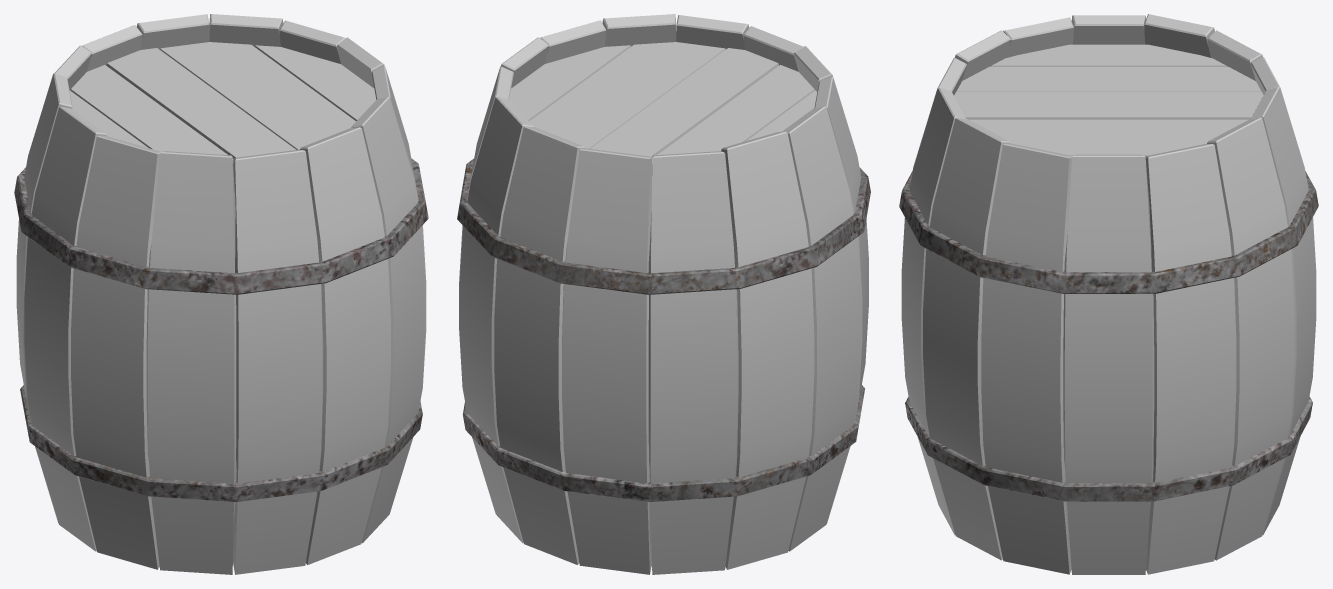
File: Barrel.fbx
3 views of the same model, side by side, from view 1: azimuth 30°, elevation 25°; view 2: azimuth 150°, elevation 25°; view 3: azimuth 270°, elevation 25° (orthographic).
Visible parts, largest first — view 1: Бочка; view 2: Бочка; view 3: Бочка.
Boxes of the visible parts, bbox=[...] form: Бочка: bbox=[14, 14, 428, 574]; Бочка: bbox=[457, 14, 870, 574]; Бочка: bbox=[899, 14, 1318, 574].
Bounding box in the file's own units: 90.73 × 88.53 × 100.
